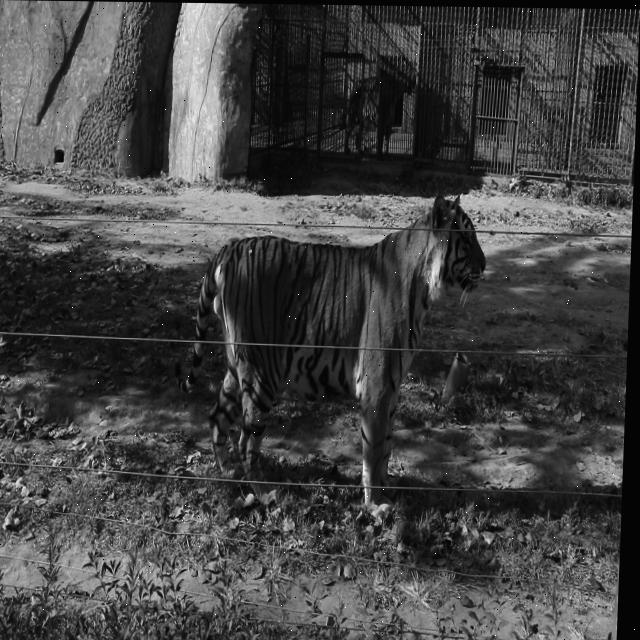Tiger: (169, 188, 489, 529), (339, 52, 419, 162)
